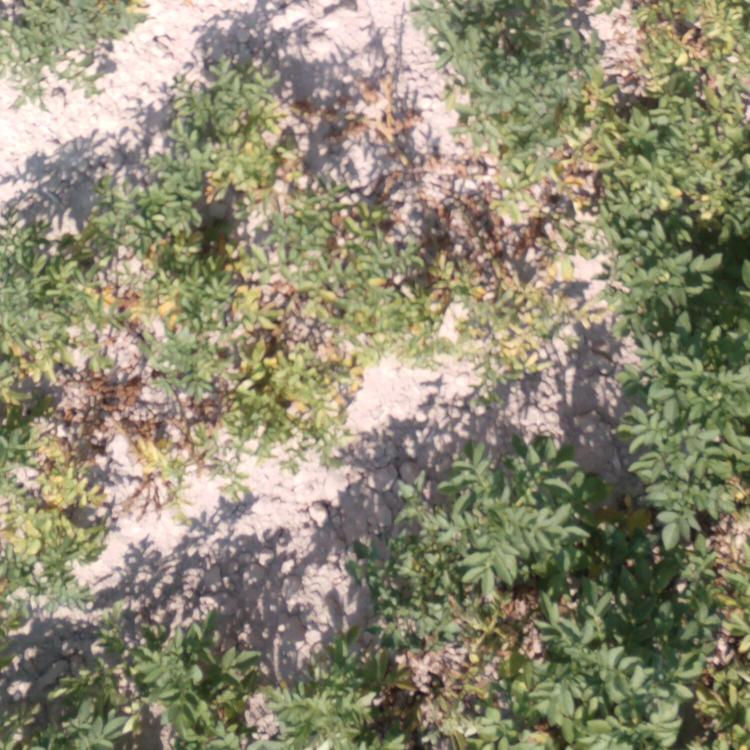healthy: (621, 227, 750, 589), (423, 603, 735, 745), (401, 437, 604, 594), (14, 640, 257, 746), (415, 5, 595, 89), (10, 197, 125, 308), (277, 644, 394, 746), (1, 1, 129, 90)
stressed: (127, 299, 358, 454), (369, 208, 598, 360), (147, 61, 271, 295), (6, 323, 104, 587), (621, 1, 740, 215), (483, 97, 601, 202), (282, 137, 364, 285)
